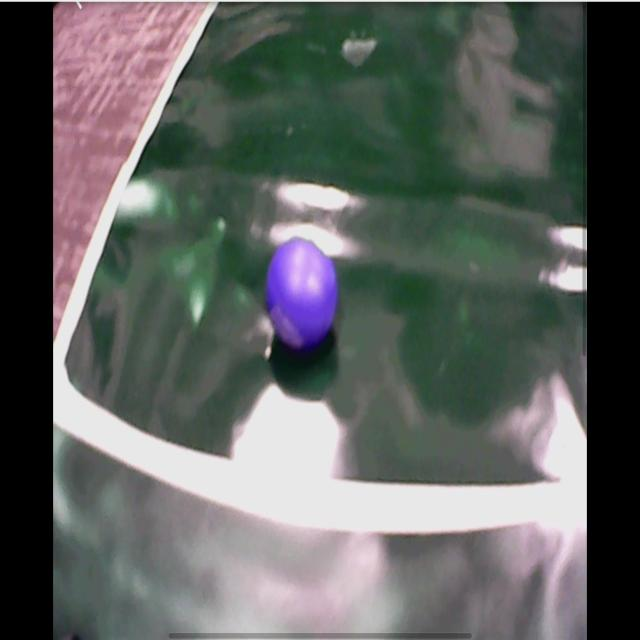ball: (266, 235, 338, 350)
